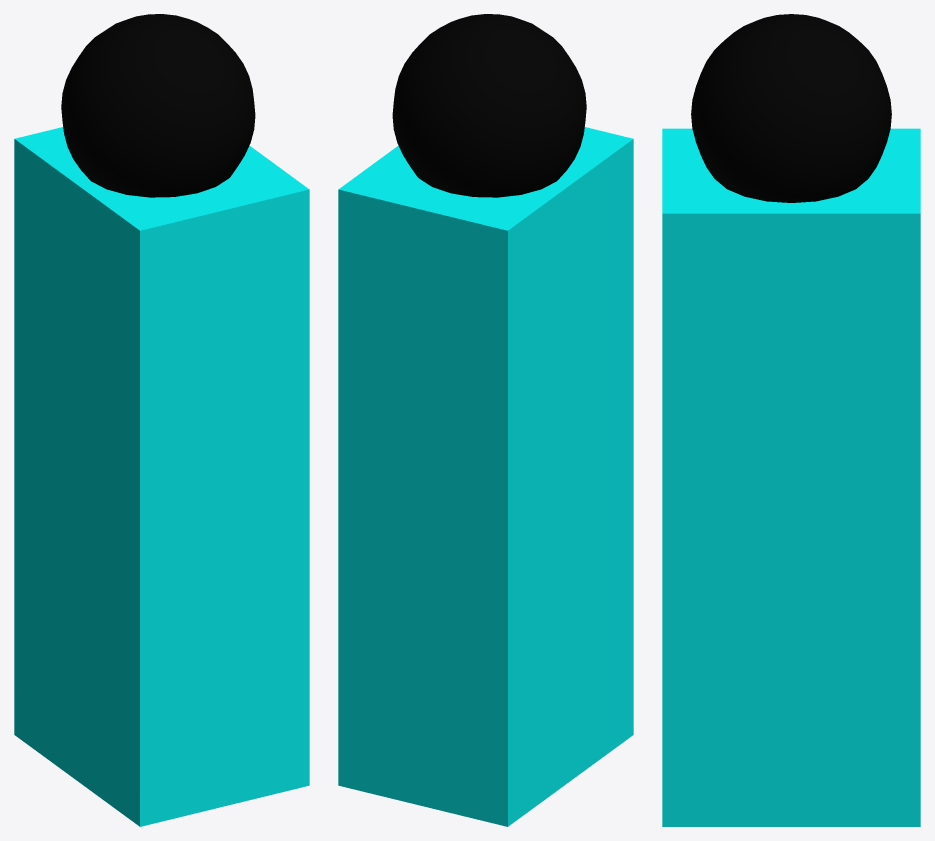
Rendered from knee1.obj.
3 renders of one model, left to right at view 1: azimuth 30°, elevation 25°; view 2: azimuth 150°, elevation 25°; view 3: azimuth 270°, elevation 25°, orthographic. The views are drawn at different scales.
Parts seen in each view (by area): view 1: pCube30 polySurface5, polySurface8 pCube30; view 2: pCube30 polySurface5, polySurface8 pCube30; view 3: pCube30 polySurface5, polySurface8 pCube30.
Boxes of the visible parts, <box> form: pCube30 polySurface5: <box>14,127,309,826</box>; polySurface8 pCube30: <box>61,14,255,197</box>; pCube30 polySurface5: <box>338,127,633,826</box>; polySurface8 pCube30: <box>392,14,586,197</box>; pCube30 polySurface5: <box>662,128,920,826</box>; polySurface8 pCube30: <box>691,14,891,202</box>.
Size of the model in its own units: 1.18 by 4.82 by 1.49.
